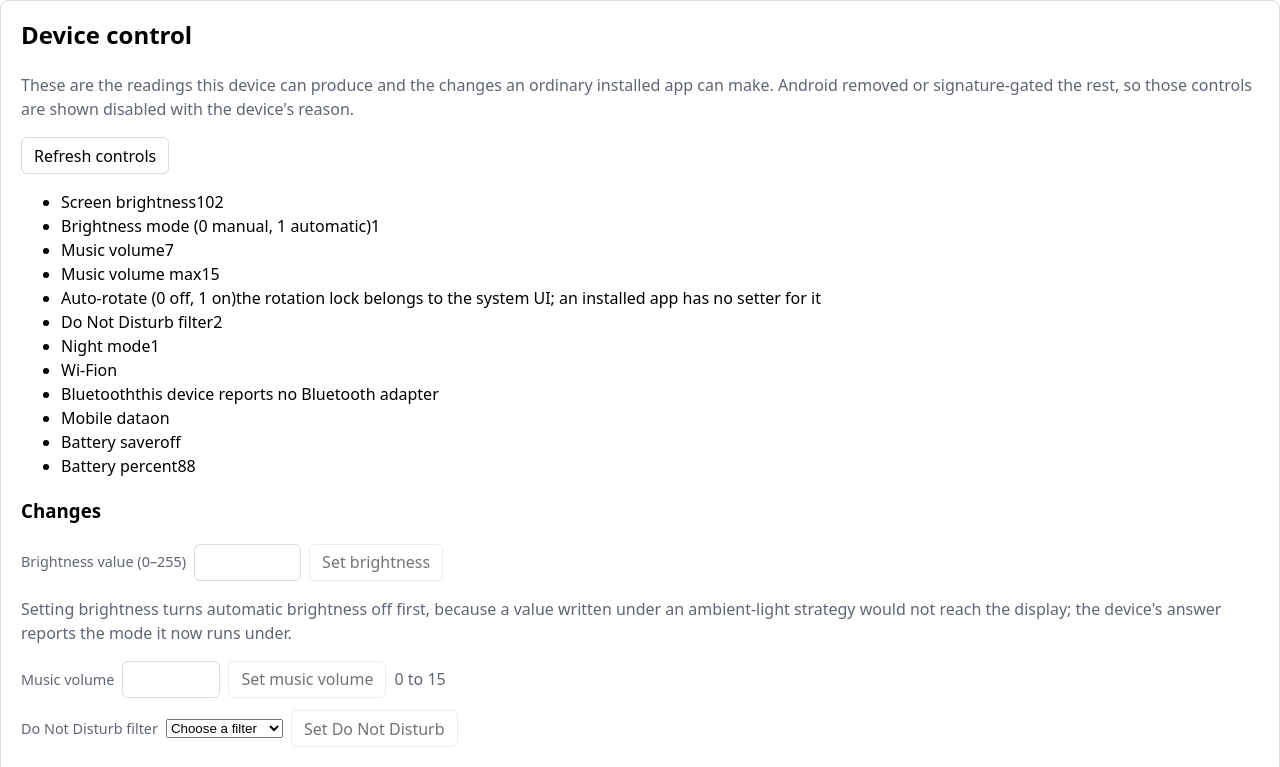
Test case: the control panel › reports the automatic-brightness side effect only when the device said it happened
Expected: the list named "control readings" is shown, [61,191,821,477]
Expected: the text "turns automatic brightness off first" is shown, [21,598,1221,644]
Type "120" into the number field labelled "Brightness value (0–255)" at (248, 562), box [194,544,301,581]
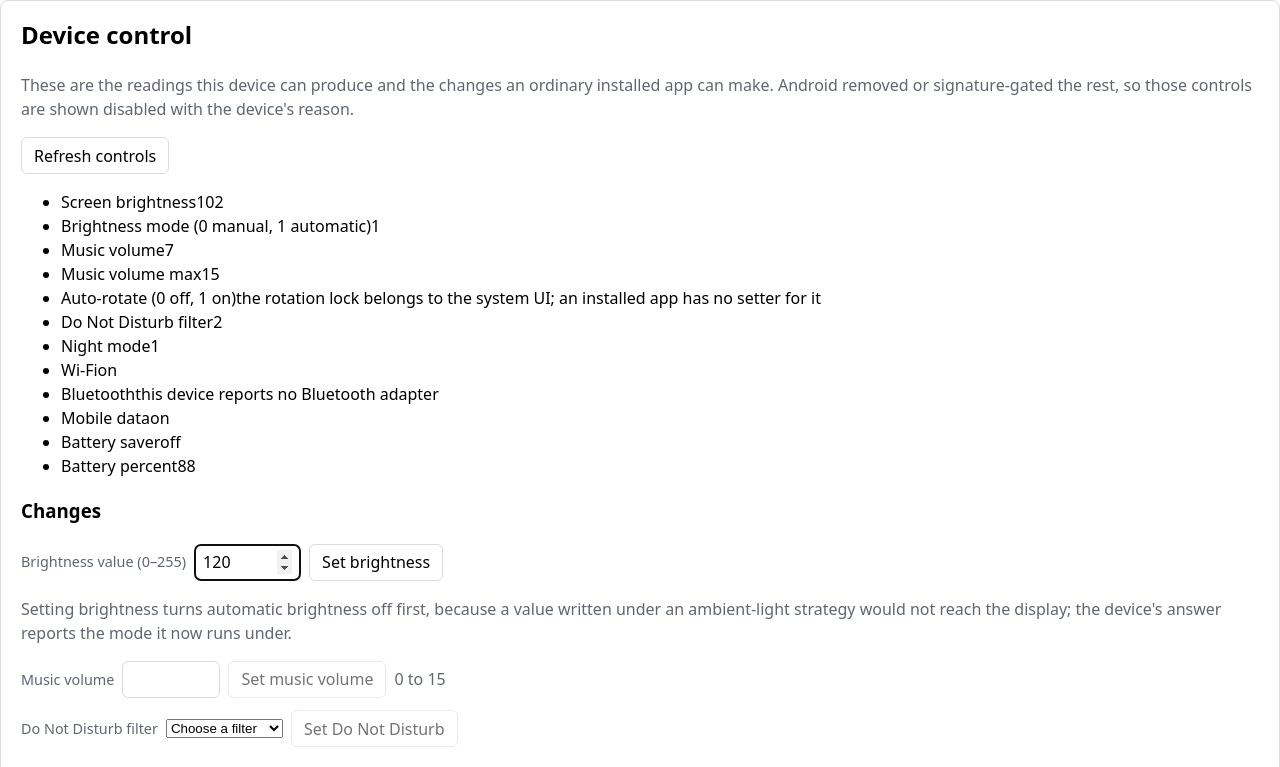
Click the button "Set brightness" at (376, 562), box [309,544,443,581]
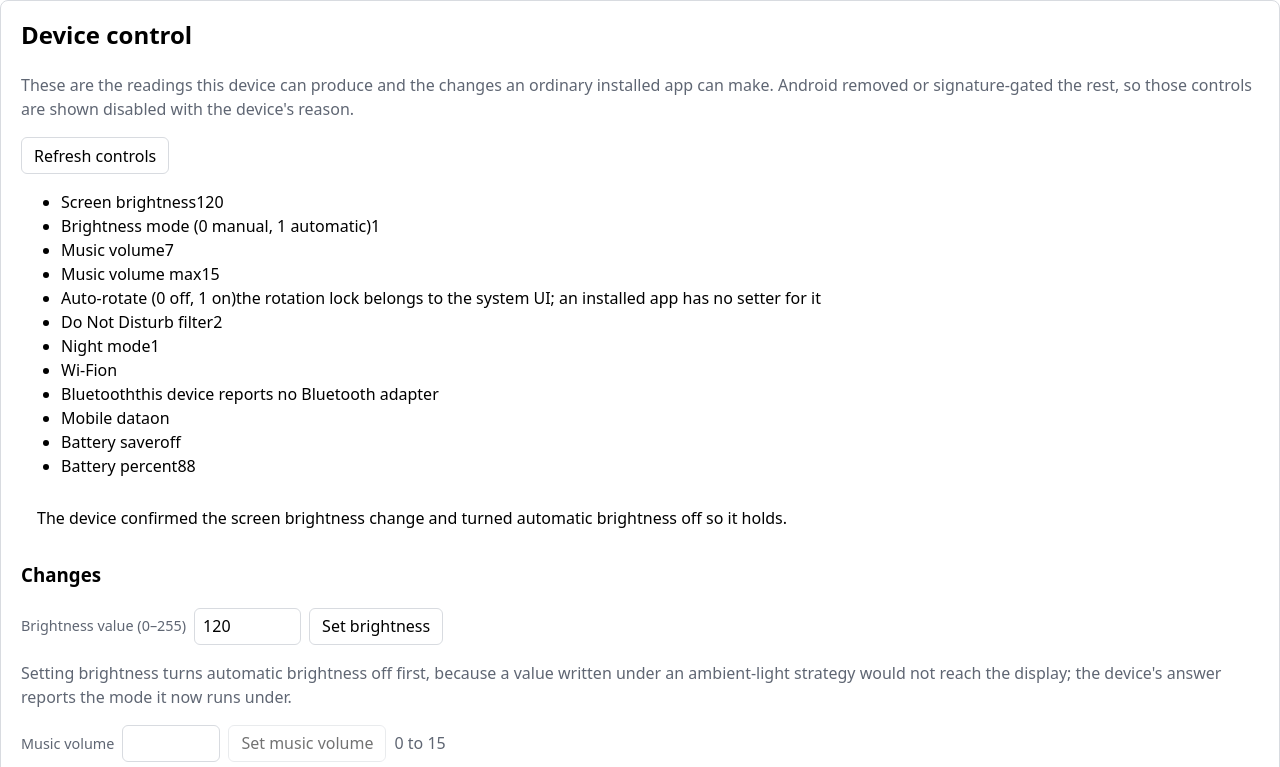
Expected: the text "turned automatic brightness off so it holds" is shown, [37,507,787,529]
